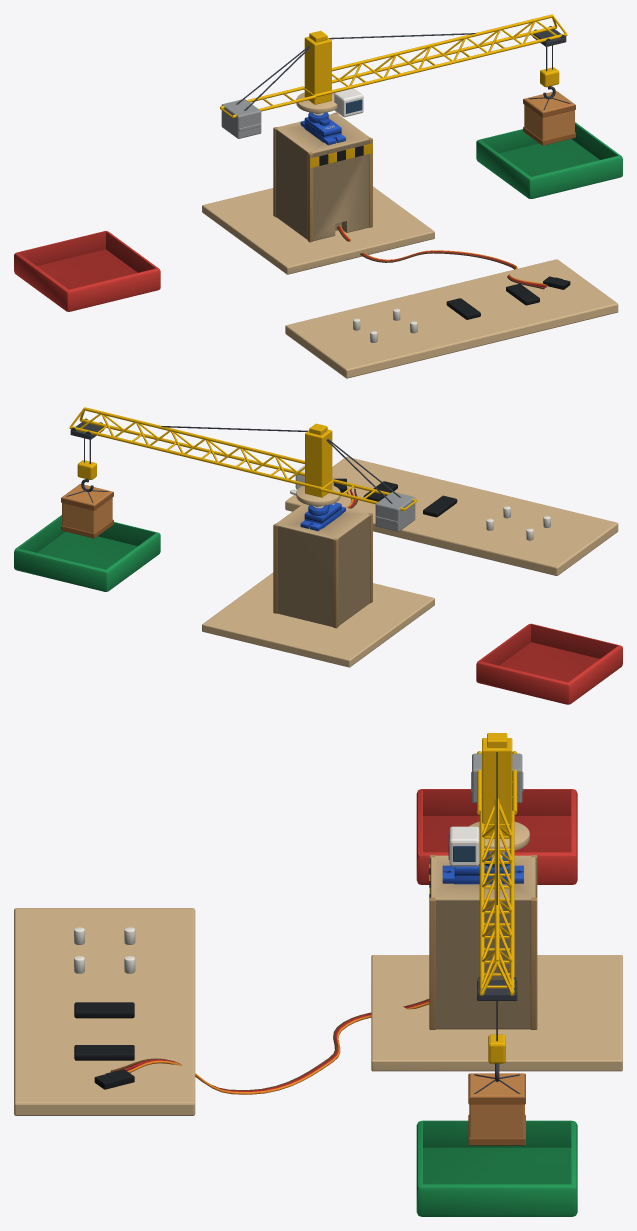
The model's file is joystick-crane.glb.
3 views of the same model, one above another, from view 1: azimuth 30°, elevation 25°; view 2: azimuth 150°, elevation 25°; view 3: azimuth 270°, elevation 25° (orthographic). The views are drawn at different scales.
Parts seen in each view (by area): view 1: Paddle, Tower, Boom, Tray_Left, Tray_Right; view 2: Tower, Paddle, Boom, Tray_Left, Tray_Right; view 3: Paddle, Tower, Boom, Tray_Right, Tray_Left.
Part boxes in pixels (x1,y1,x2,y2): Paddle: (285,225,618,378); Tower: (202,112,434,274); Boom: (220,14,575,145); Tray_Left: (14,231,160,311); Tray_Right: (476,122,622,198); Tower: (202,502,434,667); Paddle: (285,456,618,575); Boom: (61,407,416,538); Tray_Left: (476,623,622,704); Tray_Right: (14,515,160,591); Paddle: (14,908,429,1115); Tower: (371,852,622,1071); Boom: (448,733,529,1145); Tray_Right: (416,1120,577,1216); Tray_Left: (416,789,577,884).
Bounding box in the file's own units: 0.376 × 0.1245 × 0.242.
